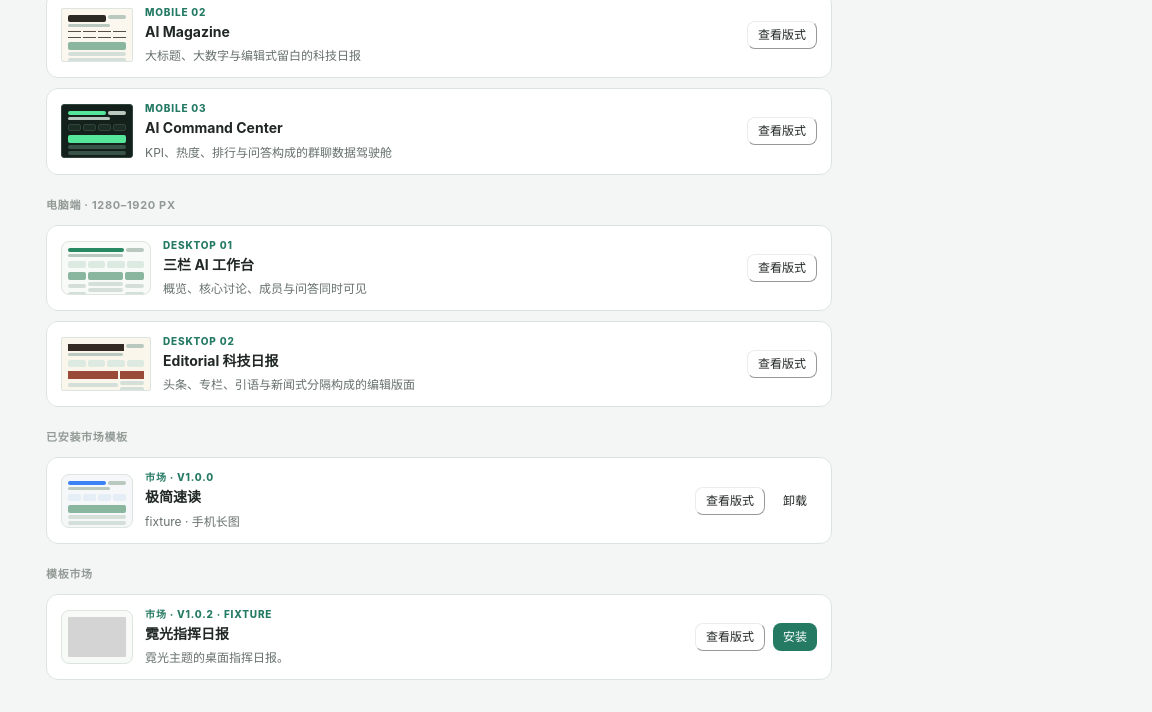
it: ReportTemplateMarketWorkspace › uninstalls a market template and refreshes the list
(page scrolled)
Click the button "卸载" at (795, 500), box 773,486 -> 817,514
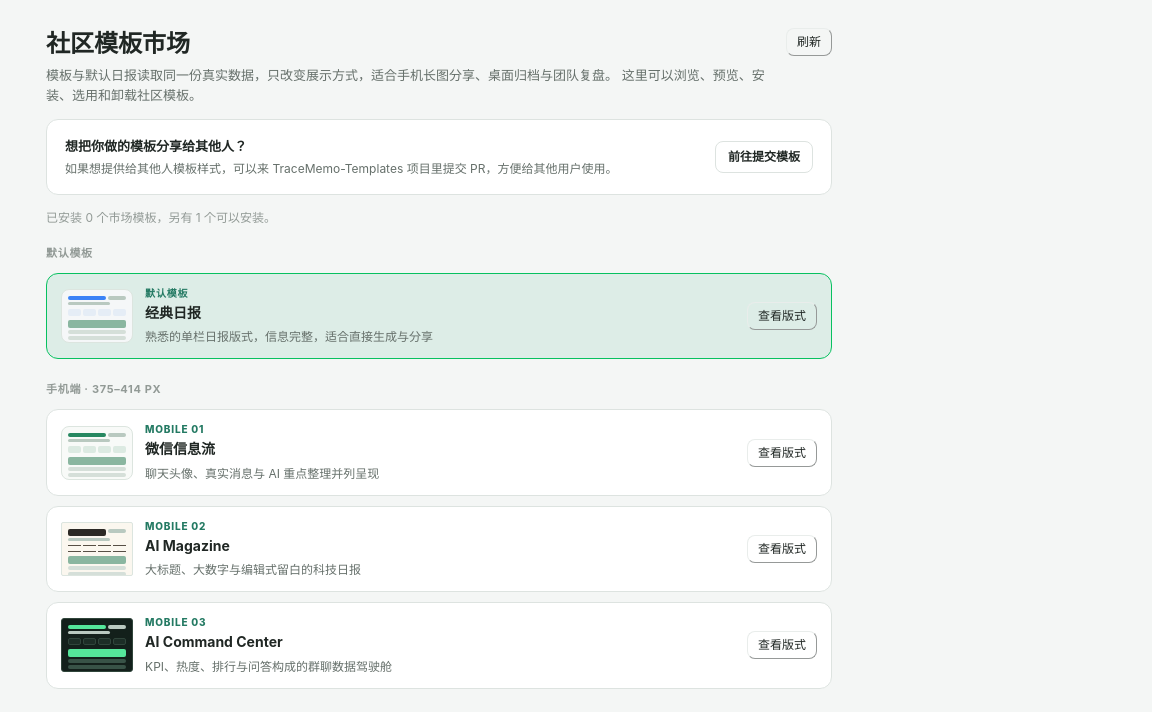
Check: the text "已安装 0 个市场模板，另有 1 个可以安装。" is shown, box 46,210 -> 276,225
